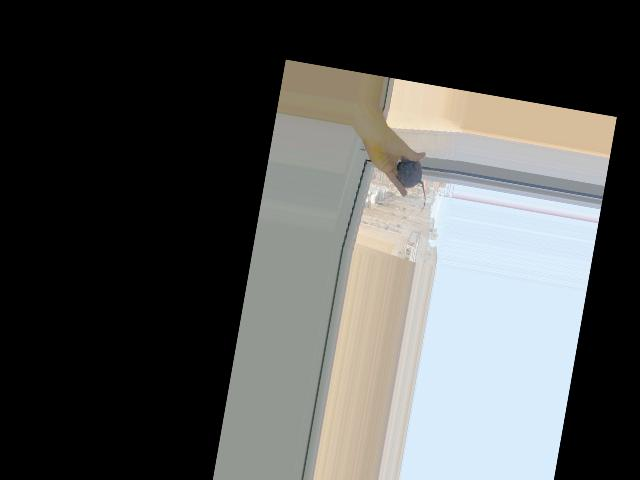beet: (389, 158, 432, 213)
